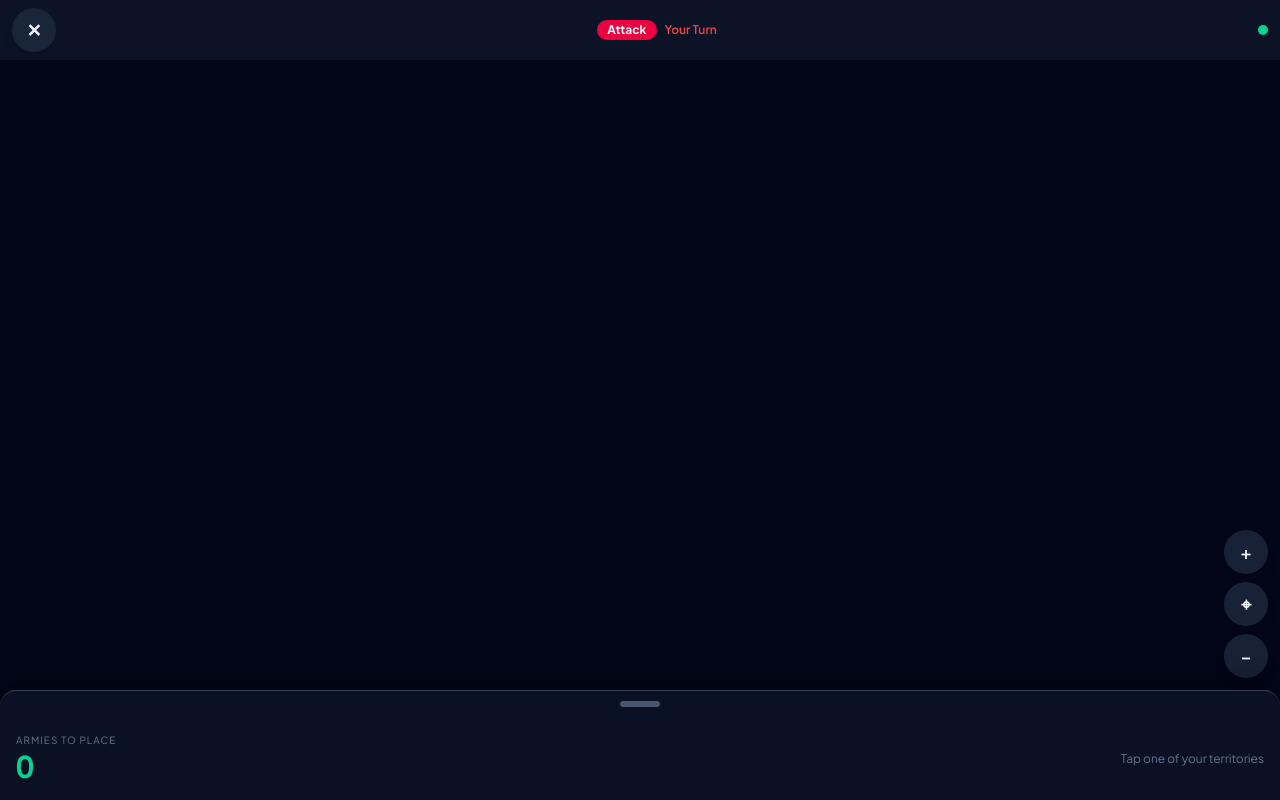
FullscreenGameMap › starts with the bottom sheet open, and tapping its handle collapses/expands it
The image size is (1280, 800).
Click the button named "Collapse action panel".
click(640, 704)  # box top-left (0, 691), bottom-right (1279, 717)
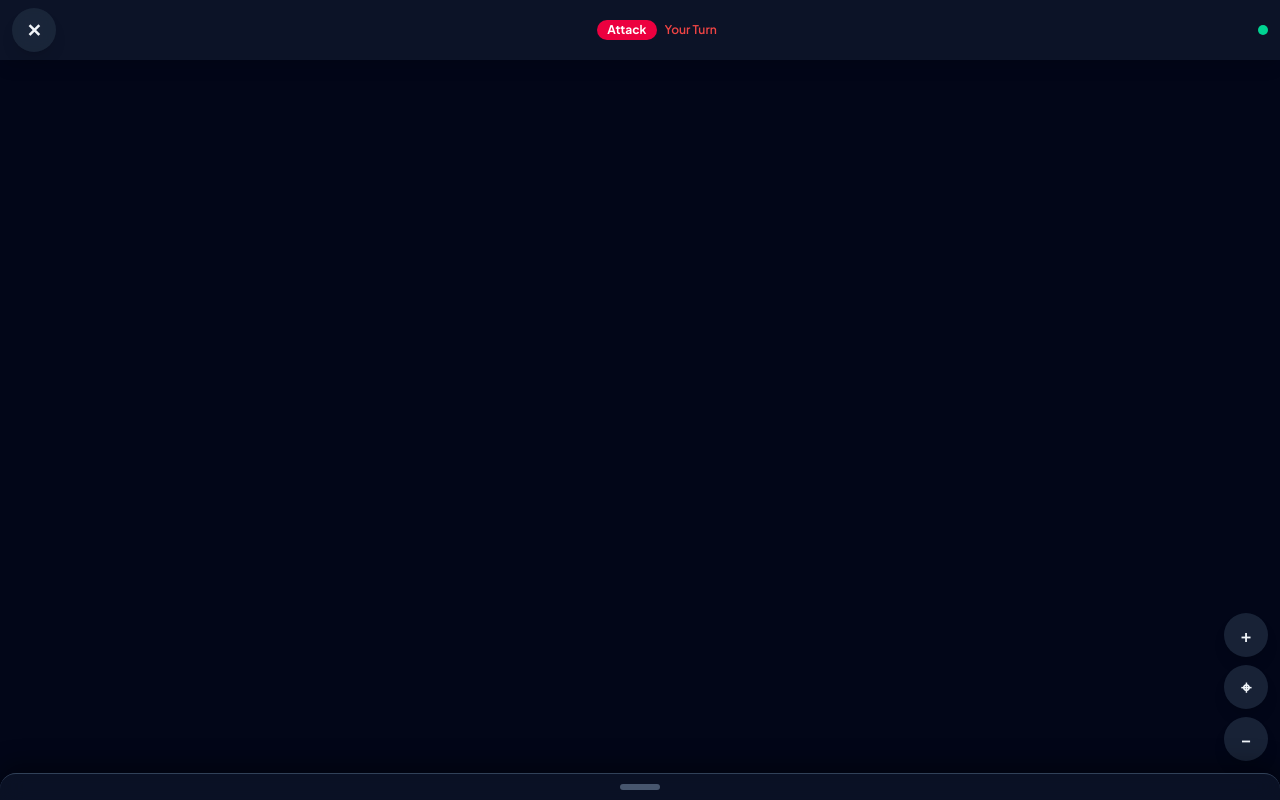
Check: the button named "Expand action panel" is collapsed
Click the button named "Expand action panel".
click(640, 787)  # box top-left (0, 774), bottom-right (1279, 799)
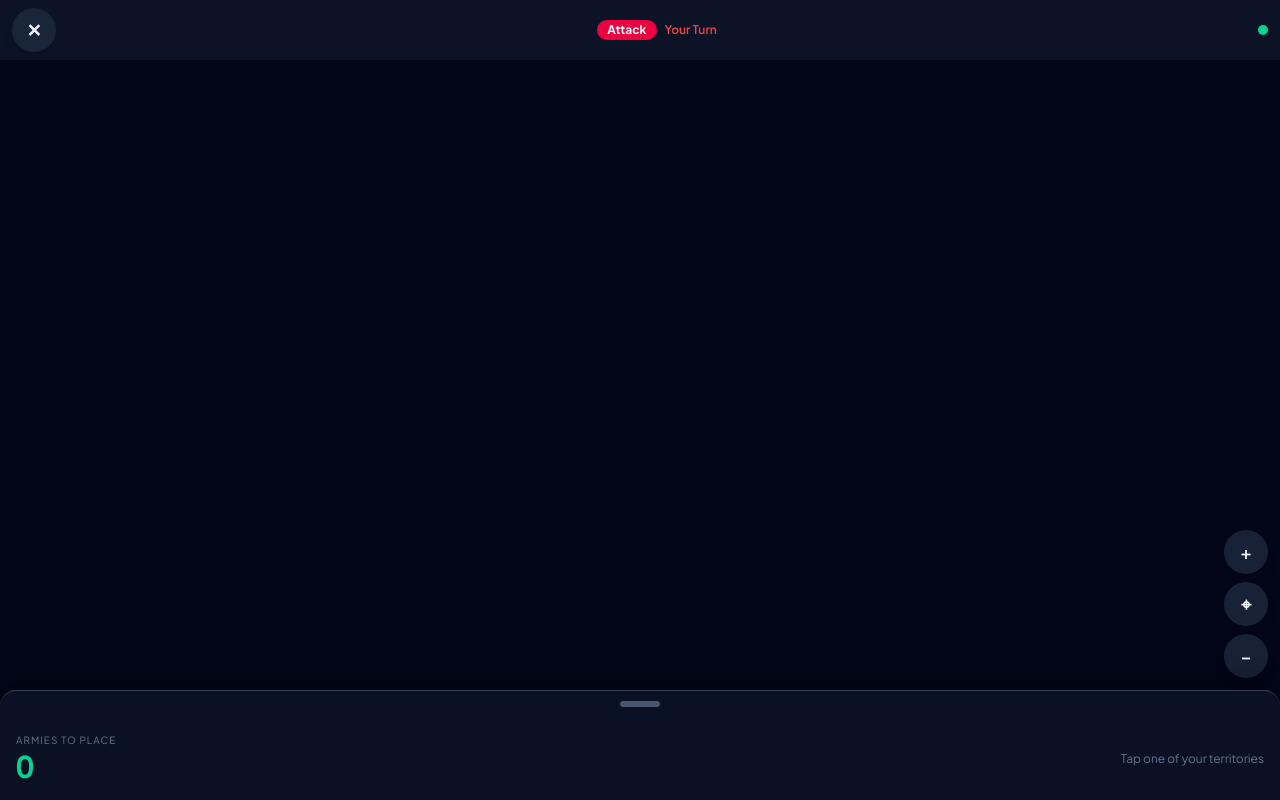
Check: the button named "Collapse action panel" is expanded, box top-left (0, 691), bottom-right (1279, 717)
